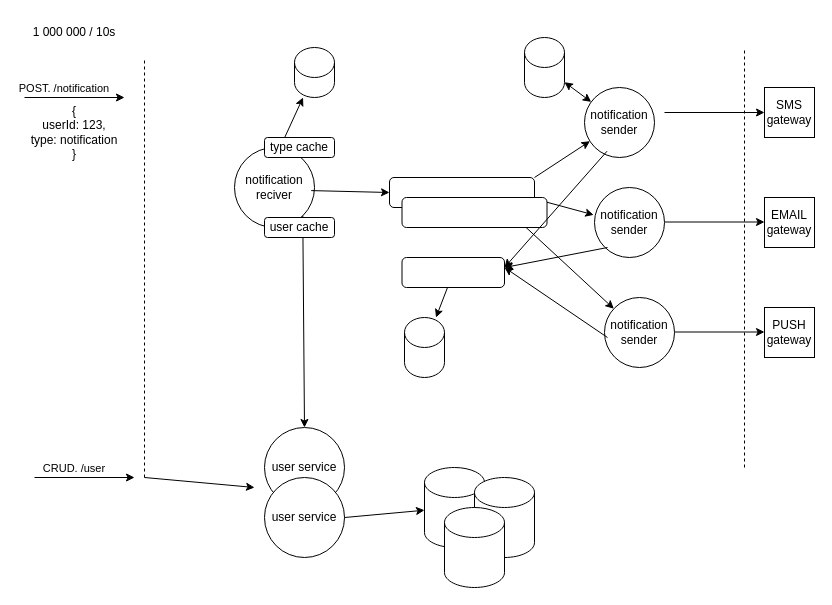
Image size: 832x605. Some labels were removed from this diagram. The shapes that lost their labels are listed below. From the top down, each one's centre as x and y in pixels, then its label:
(x=461, y=192): Kafka
(x=474, y=212): Kafka prio topic
(x=452, y=272): Kafka audit topic
